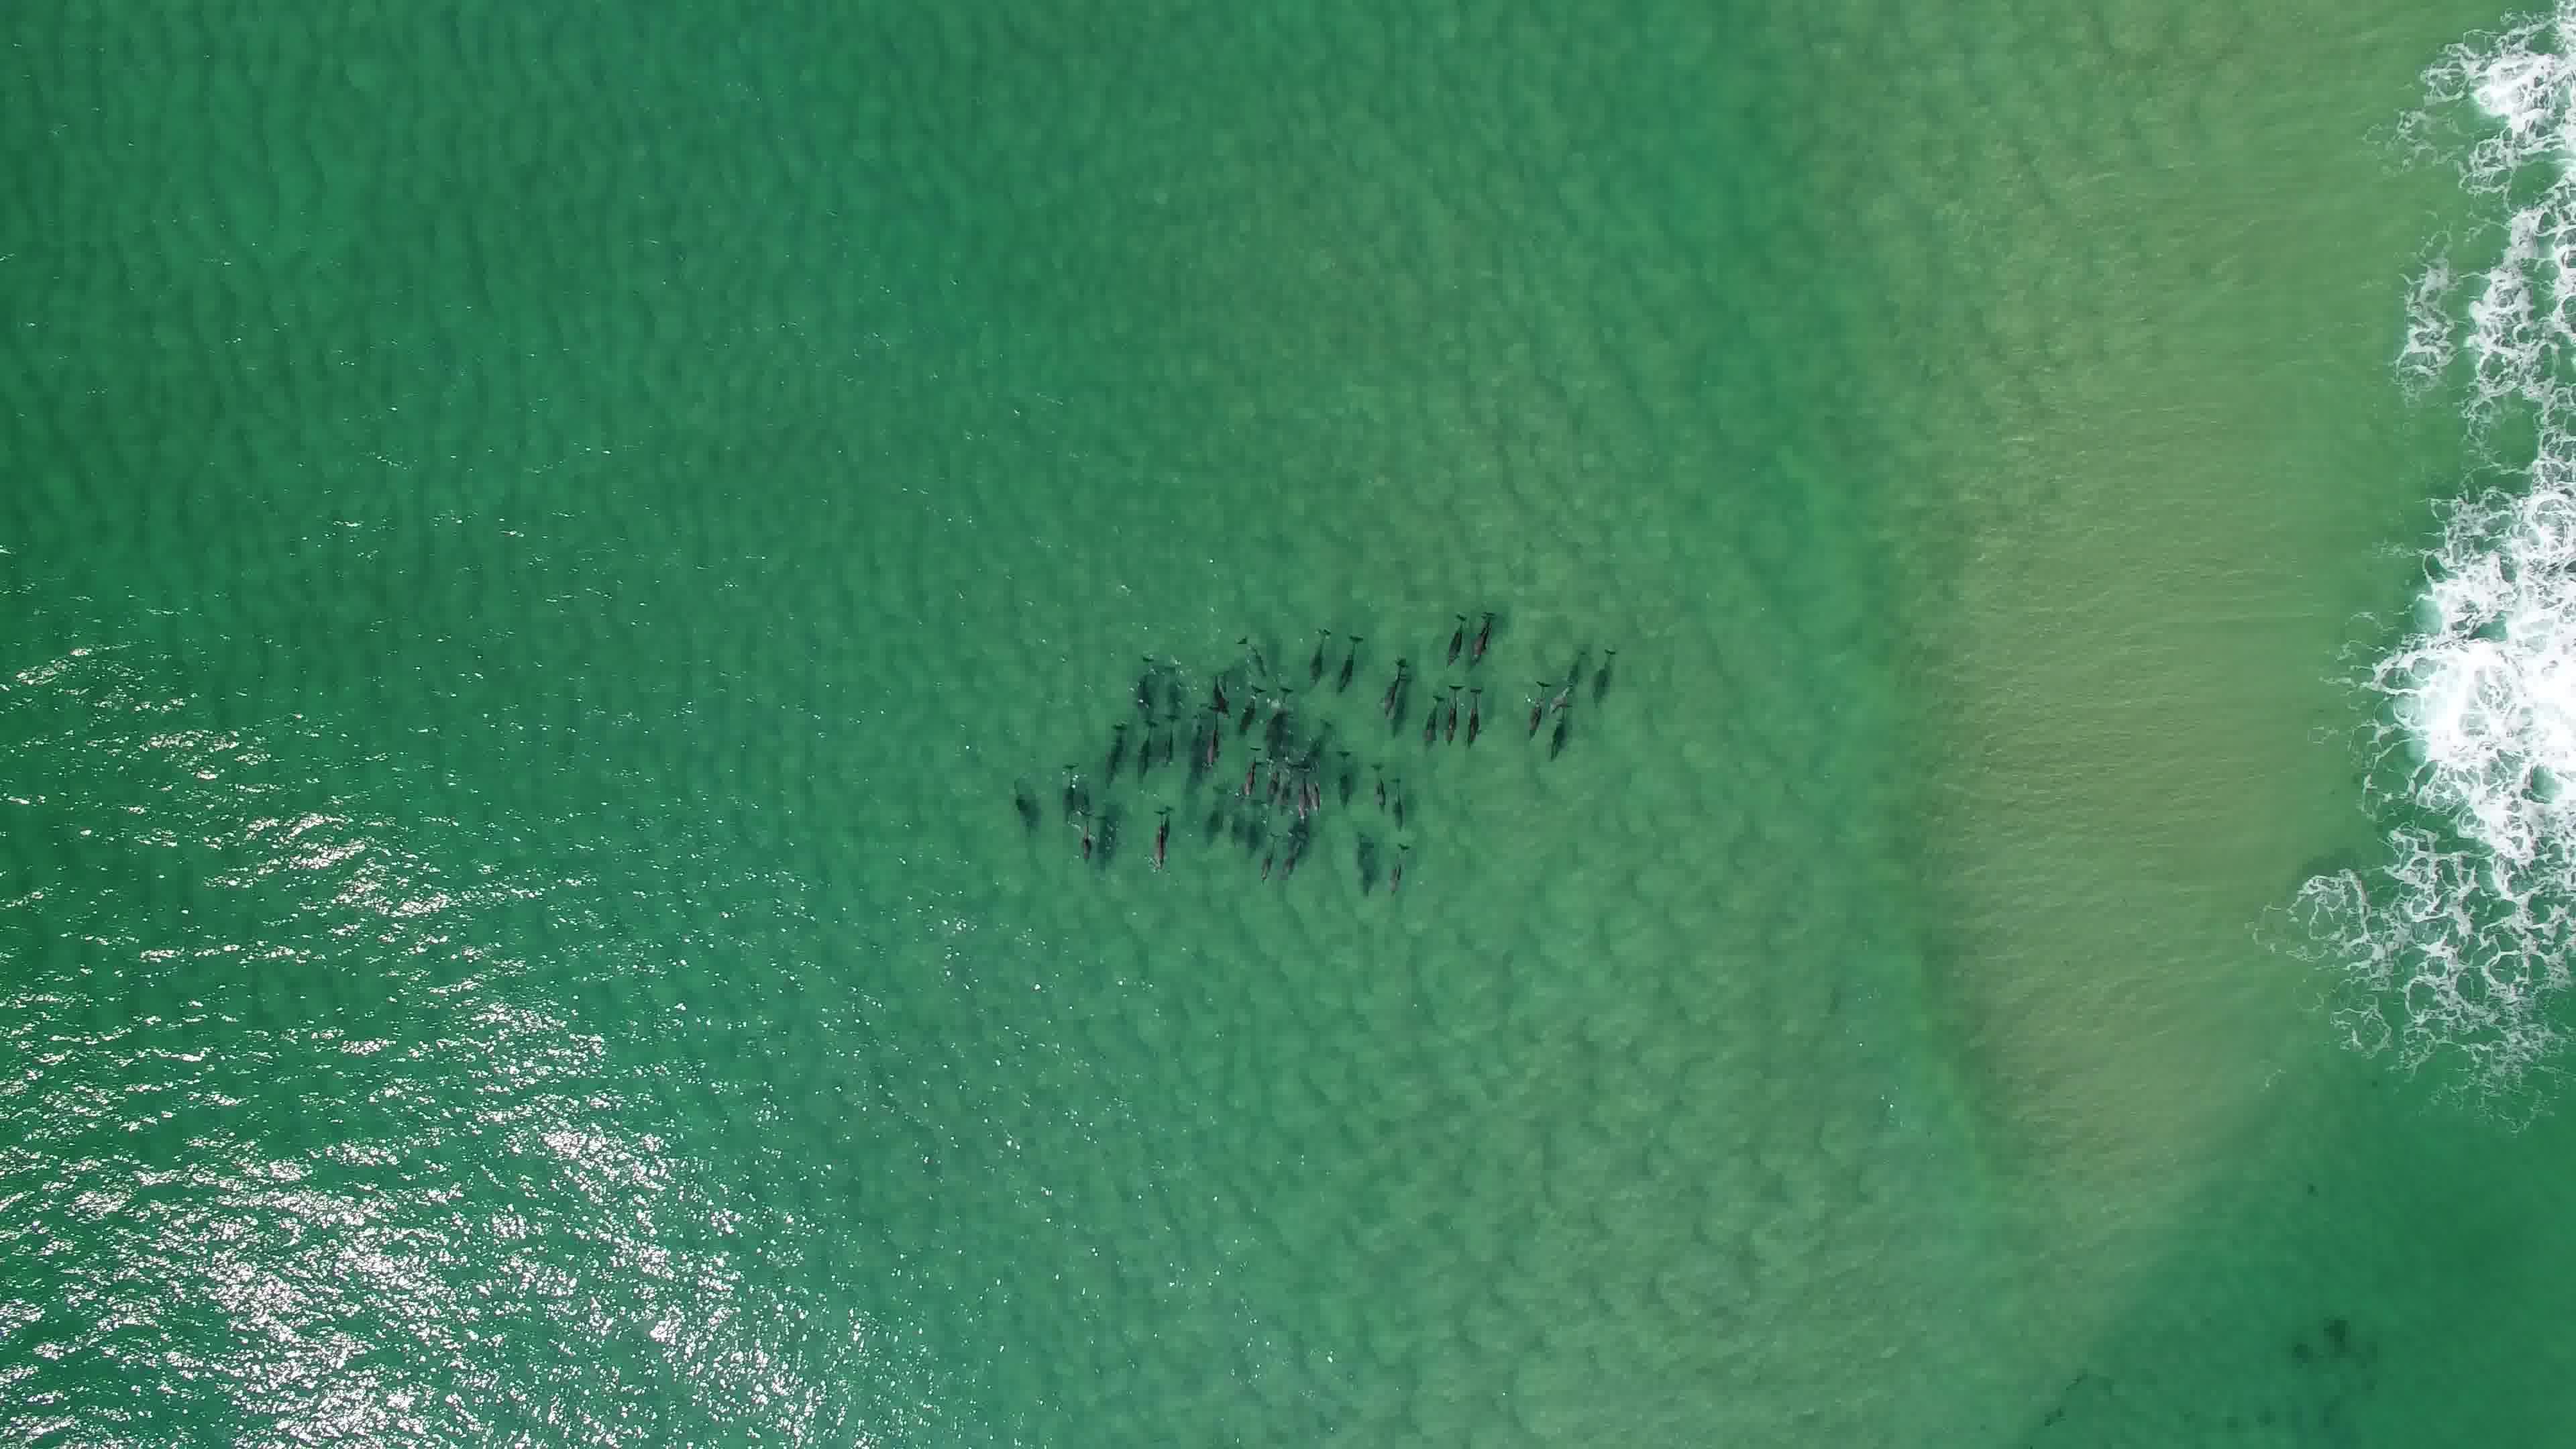dolphin: (1366, 648, 1415, 722), (1507, 667, 1548, 740), (1376, 754, 1414, 832), (1194, 695, 1233, 770), (1412, 683, 1451, 754), (1332, 630, 1371, 695), (1299, 619, 1336, 686), (1143, 800, 1175, 876), (1297, 743, 1327, 821), (1463, 600, 1499, 665), (1380, 833, 1415, 899), (1201, 660, 1238, 722), (1437, 605, 1470, 669), (1460, 681, 1488, 754), (1123, 646, 1155, 709), (1539, 660, 1575, 717), (1240, 830, 1276, 886), (1283, 757, 1313, 819), (1274, 835, 1313, 883), (1097, 722, 1125, 786), (1440, 679, 1467, 747), (1069, 803, 1097, 865), (1362, 755, 1391, 816), (1233, 736, 1261, 794), (1131, 718, 1155, 777)
